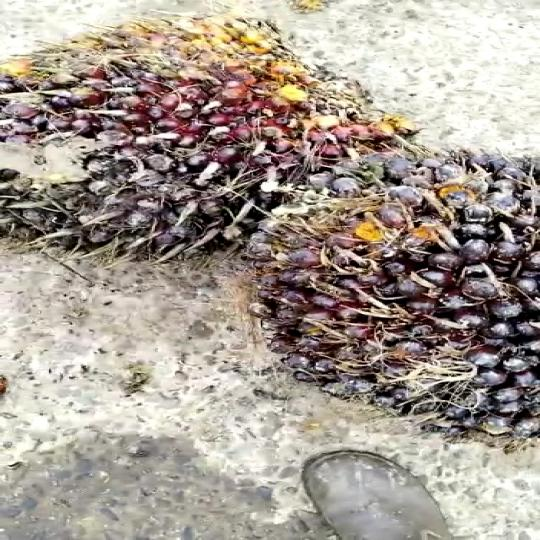kurang masak: (240, 133, 540, 448), (0, 19, 414, 231)
